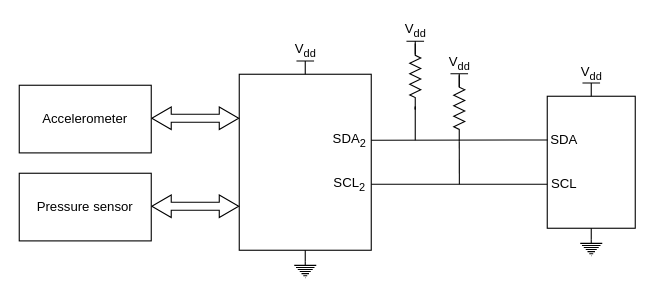
This 655x297 diagram has some shape labels left out. The shapes that lost their labels are listed below. From the top down, each one's box as (x1, y1, x2, y2) in pixels, then its label:
(238, 73, 371, 250): Master SoC
(546, 95, 635, 228): RF ID
